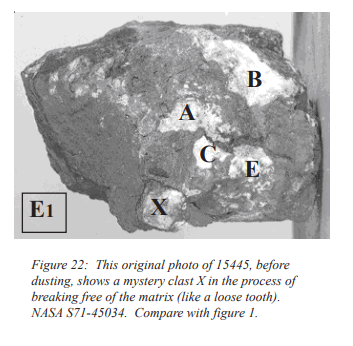Breccia: (138, 13, 318, 228), (30, 36, 207, 184)
